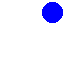circle: (42, 2, 62, 22)
